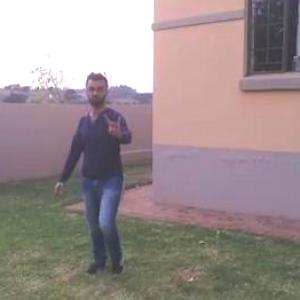takeoff-hand: (102, 105, 127, 143)
